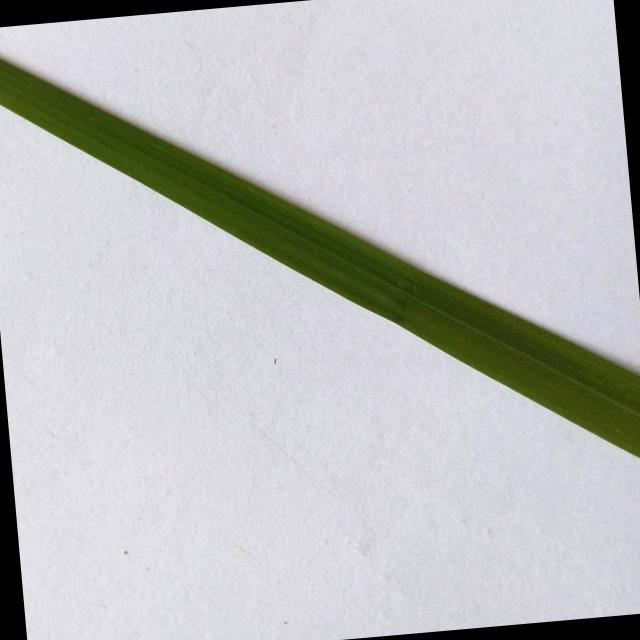Rice_Healthy: (0, 58, 640, 458)
